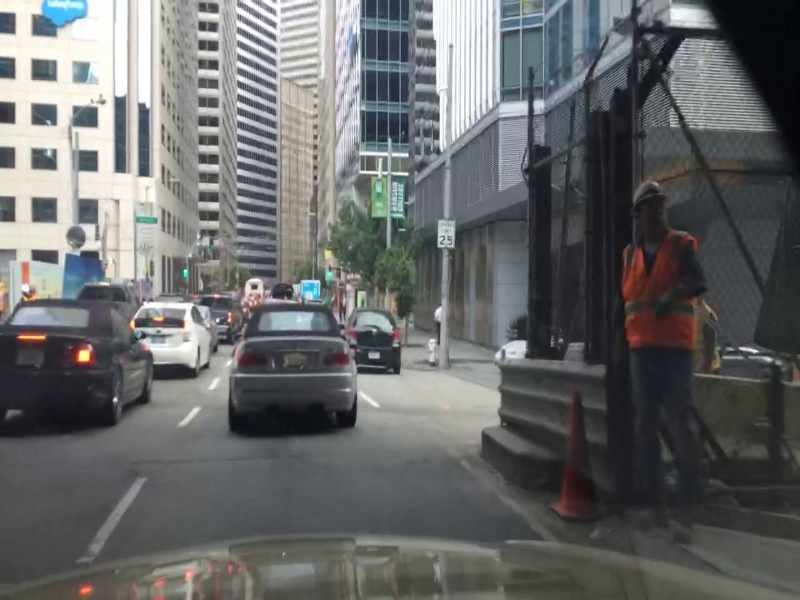car: (5, 296, 153, 442), (219, 298, 367, 432), (135, 287, 212, 383), (343, 301, 410, 373), (203, 276, 239, 342), (241, 274, 263, 297)
person: (610, 167, 716, 527)
